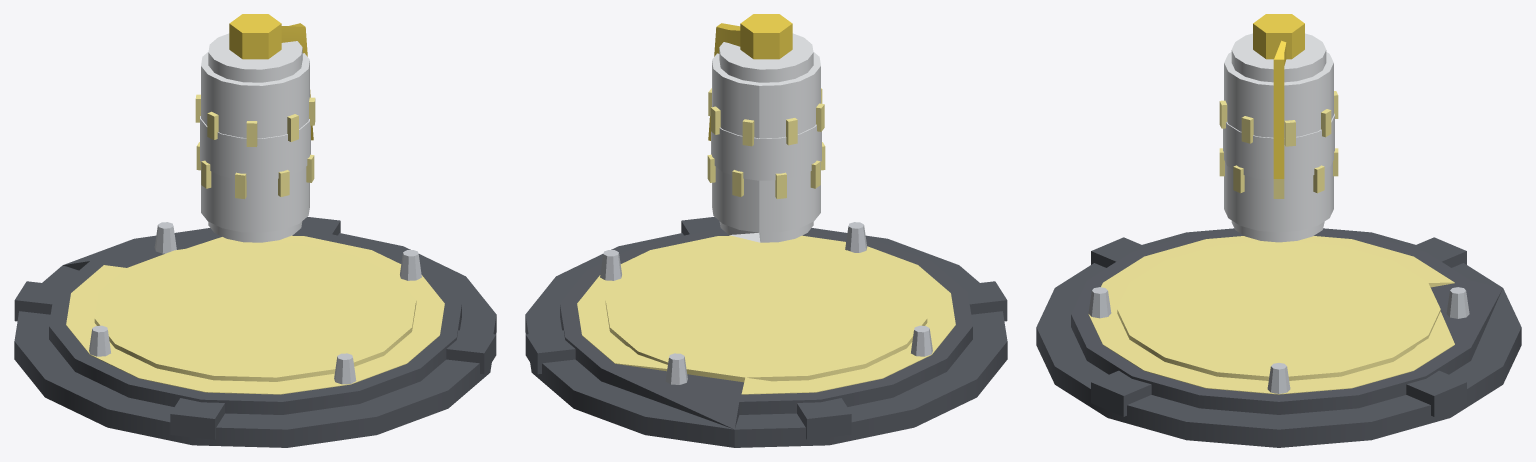
The model's file is PowerUp_Flashbang.fbx.
3 renders of one model, left to right at view 1: azimuth 30°, elevation 25°; view 2: azimuth 150°, elevation 25°; view 3: azimuth 270°, elevation 25°, orthographic.
Parts seen in each view (by area): view 1: Flashbang_Pedestal_GlowRing, Flashbang_Pedestal_Chassis, Flashbang_Canister, Flashbang_FuzeLever, Flashbang_EnergyPorts, Flashbang_Pedestal_Pylons; view 2: Flashbang_Pedestal_GlowRing, Flashbang_Pedestal_Chassis, Flashbang_Canister, Flashbang_FuzeLever, Flashbang_EnergyPorts, Flashbang_Pedestal_Pylons; view 3: Flashbang_Pedestal_GlowRing, Flashbang_Pedestal_Chassis, Flashbang_Canister, Flashbang_FuzeLever, Flashbang_EnergyPorts, Flashbang_Pedestal_Pylons.
Part boxes in pixels (left/top/right/bottom): Flashbang_Pedestal_GlowRing: left=66, top=235, right=444, bottom=394; Flashbang_Pedestal_Chassis: left=14, top=217, right=496, bottom=447; Flashbang_Canister: left=200, top=33, right=310, bottom=242; Flashbang_FuzeLever: left=229, top=14, right=313, bottom=140; Flashbang_EnergyPorts: left=195, top=94, right=315, bottom=199; Flashbang_Pedestal_Pylons: left=89, top=222, right=421, bottom=384; Flashbang_Pedestal_GlowRing: left=577, top=235, right=955, bottom=394; Flashbang_Pedestal_Chassis: left=525, top=217, right=1007, bottom=447; Flashbang_Canister: left=711, top=33, right=821, bottom=242; Flashbang_FuzeLever: left=708, top=14, right=792, bottom=140; Flashbang_EnergyPorts: left=707, top=88, right=825, bottom=199; Flashbang_Pedestal_Pylons: left=600, top=222, right=932, bottom=384; Flashbang_Pedestal_GlowRing: left=1088, top=236, right=1454, bottom=394; Flashbang_Pedestal_Chassis: left=1036, top=228, right=1521, bottom=447; Flashbang_Canister: left=1223, top=33, right=1334, bottom=242; Flashbang_FuzeLever: left=1253, top=14, right=1304, bottom=178; Flashbang_EnergyPorts: left=1219, top=91, right=1338, bottom=198; Flashbang_Pedestal_Pylons: left=1088, top=287, right=1469, bottom=393.
Bounding box in the file's own units: 0.84 × 0.615 × 0.84.
